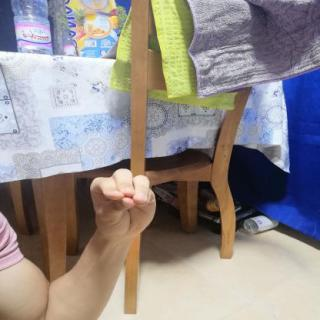HA: (78, 159, 170, 246)
